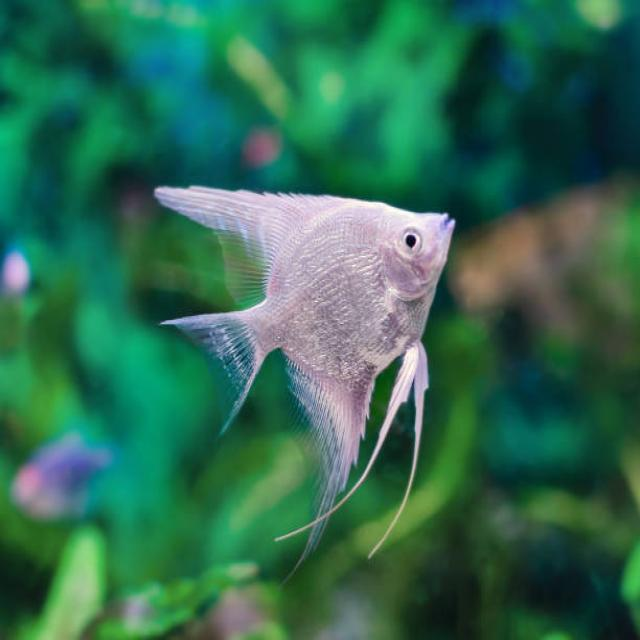AngelFish: (152, 177, 458, 564)
